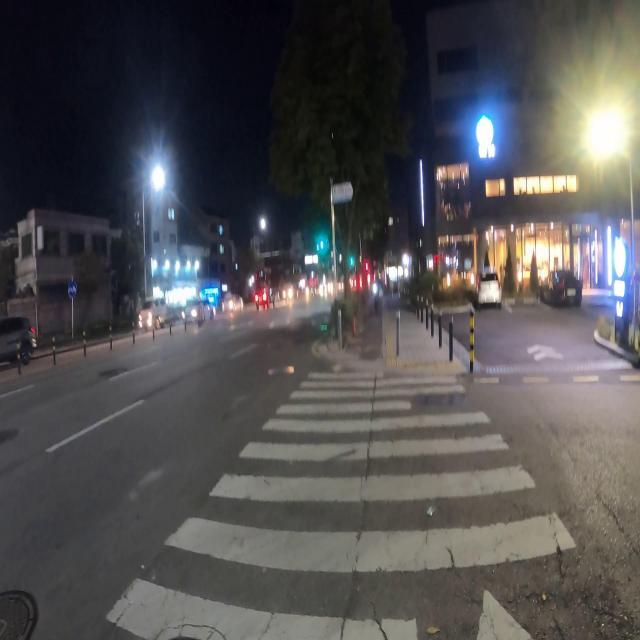crosswalk: (90, 367, 608, 637)
